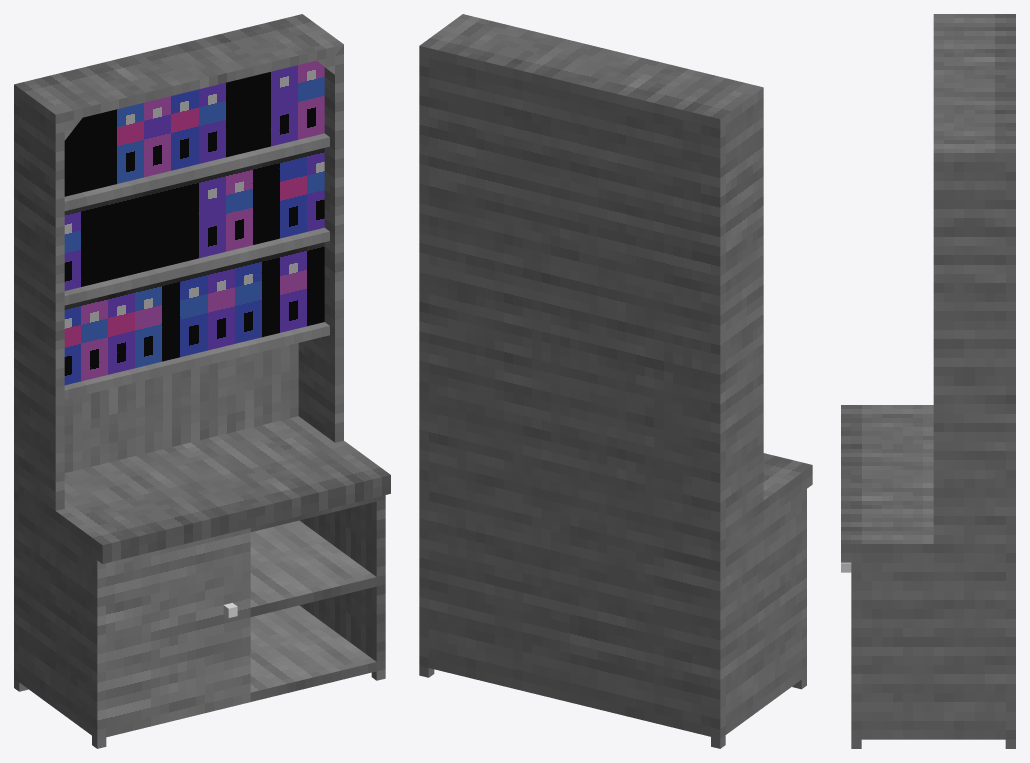
File: Bookshelf1.fbx
3 renders of one model, left to right at view 1: azimuth 30°, elevation 25°; view 2: azimuth 150°, elevation 25°; view 3: azimuth 270°, elevation 25°, orthographic. The views are drawn at different scales.
Visible parts, largest first — view 1: Bookshelf1; view 2: Bookshelf1; view 3: Bookshelf1.
Boxes of the visible parts, box(x1,y1,x2,y2) form: Bookshelf1: box(14, 14, 390, 748); Bookshelf1: box(419, 14, 812, 748); Bookshelf1: box(841, 14, 1015, 748).
Size of the model in its own units: 3.2 by 6.4 by 1.7.
